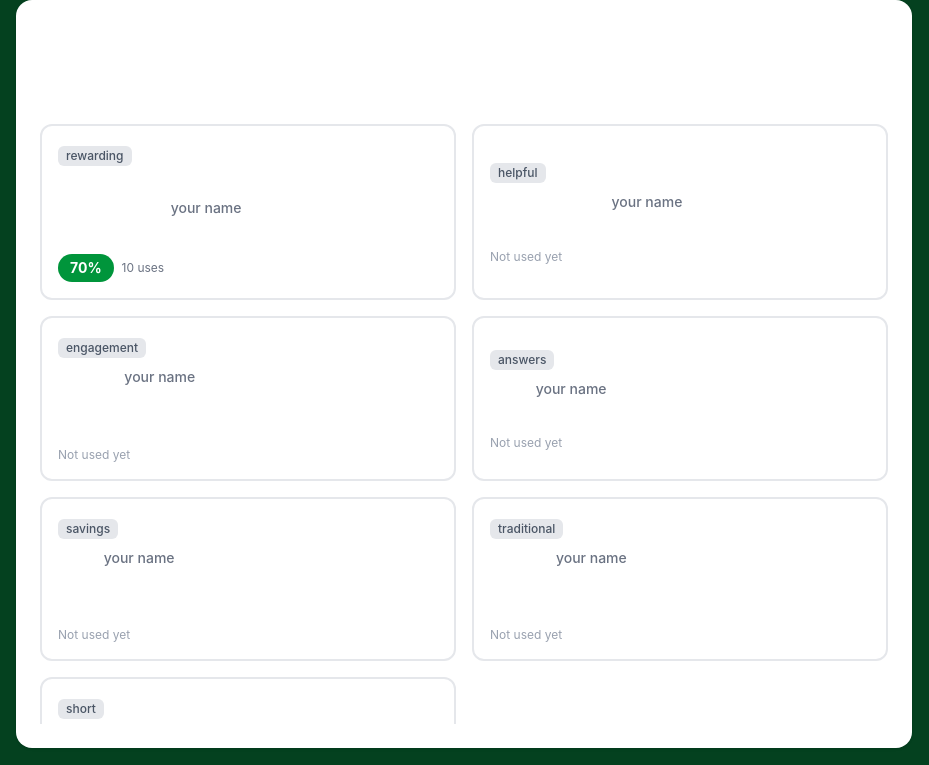
Test case: PickupLineLibrary › should show detailed statistics when a line is clicked
The width and height of the screenshot is (929, 765).
Check: the text "Total Uses:" is not shown
// Click on the pickup line (use partial text match since text is split across spans)
Click the text "Hi, thank you for requesting a callback": click(239, 184) [58,176,420,216]
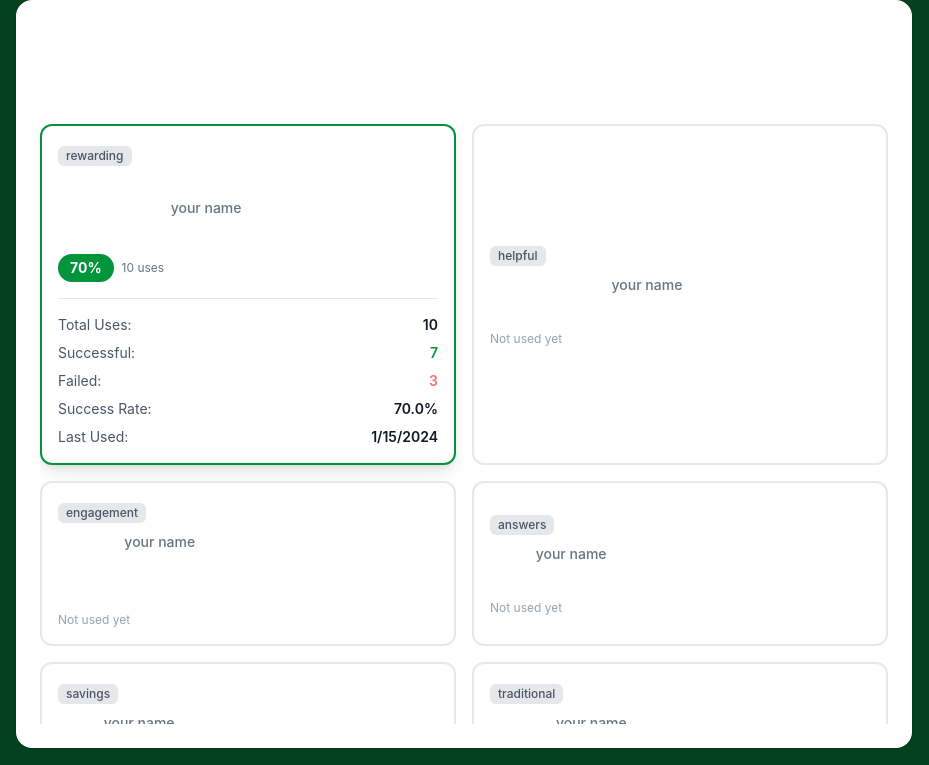
Check: the text "Total Uses:" is shown, box [58,315,132,335]
Check: the text "Successful:" is shown, box [58,343,135,363]
Check: the text "Failed:" is shown, box [58,371,101,391]
